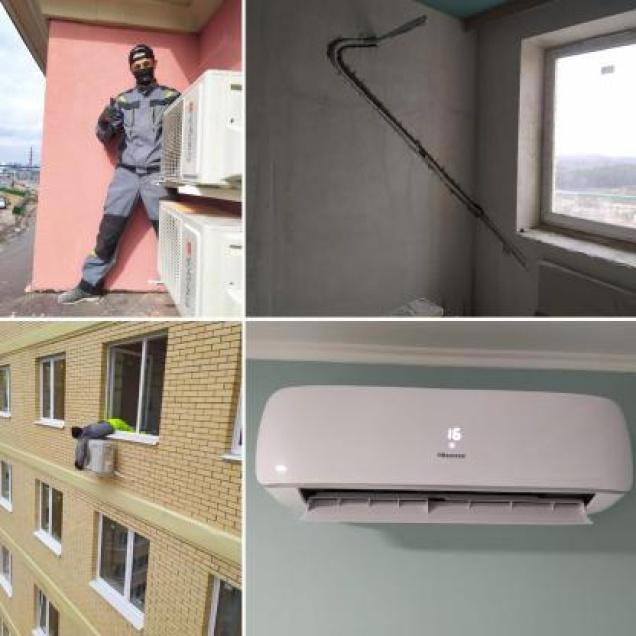AC: (252, 383, 632, 527)
